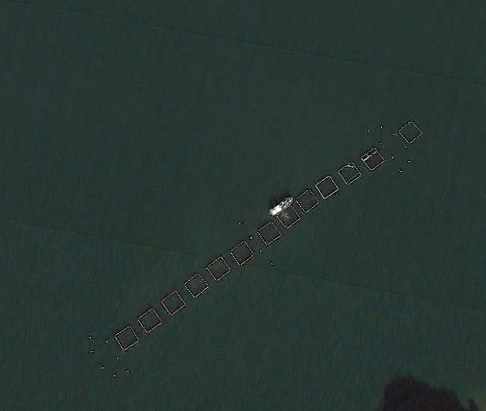ship: (265, 193, 296, 219)
square: (158, 282, 185, 321), (394, 116, 426, 146), (134, 304, 162, 338), (360, 142, 389, 174), (255, 218, 284, 248), (230, 237, 257, 269), (183, 268, 209, 301), (113, 323, 141, 353), (206, 253, 232, 285), (294, 184, 322, 213), (273, 202, 302, 230), (315, 172, 342, 201), (337, 158, 362, 184)
